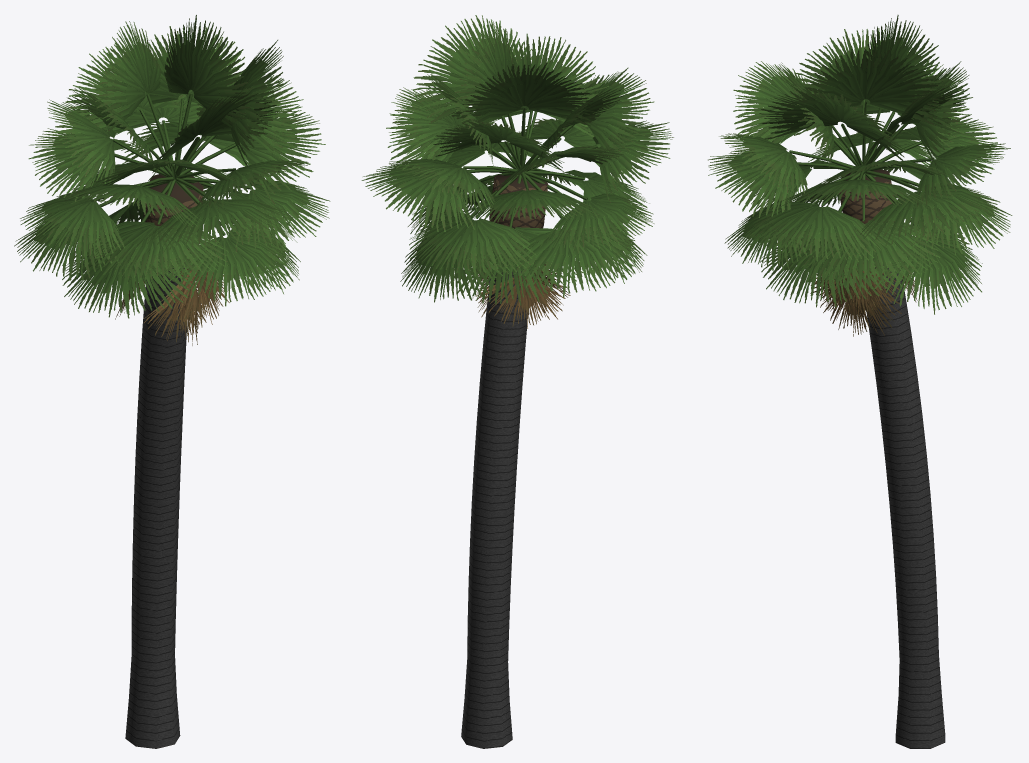
File: palm_palmyra_2.glb
3 views of the same model, side by side, from view 1: azimuth 30°, elevation 25°; view 2: azimuth 150°, elevation 25°; view 3: azimuth 270°, elevation 25° (orthographic). The views are drawn at different scales.
Visible parts, largest first — view 1: palm_palmyra_2; view 2: palm_palmyra_2; view 3: palm_palmyra_2.
Part boxes in pixels (<box>): palm_palmyra_2: <box>14,15,330,748</box>; palm_palmyra_2: <box>361,15,673,748</box>; palm_palmyra_2: <box>708,15,1012,748</box>.
Size of the model in its own units: 4.84 by 12.23 by 4.86.
1 material, 1 textured.
